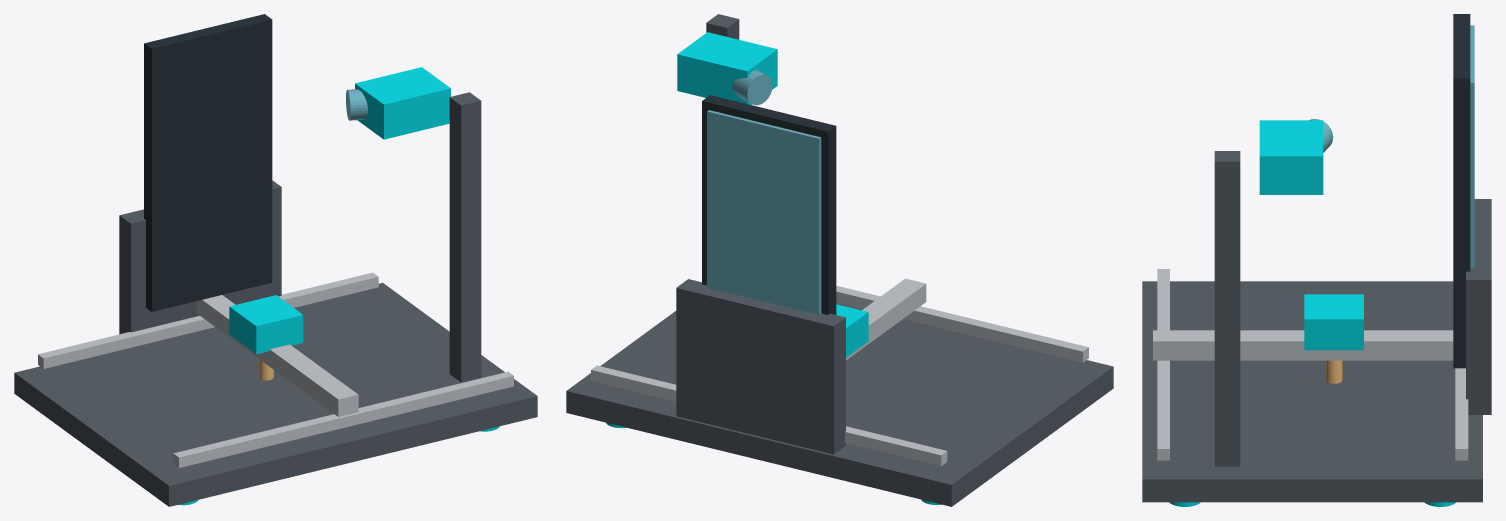
File: loop-phone-dock.glb
3 renders of one model, left to right at view 1: azimuth 30°, elevation 25°; view 2: azimuth 150°, elevation 25°; view 3: azimuth 270°, elevation 25°, orthographic. The views are drawn at different scales.
Visible parts, largest first — view 1: base, phone_body, mast, cradle, rail_y_s, head, rail_y_n, gantry, carriage, lens; view 2: base, cradle, phone_glass, phone_body, head, rail_y_s, rail_y_n, gantry, carriage, lens, mast; view 3: base, mast, gantry, phone_body, cradle, head, carriage, rail_y_s, phone_glass, rail_y_n, stylus.
Part boxes in pixels (<box>): base: <box>14,283,537,506</box>; phone_body: <box>144,14,272,311</box>; mast: <box>449,92,481,382</box>; cradle: <box>119,180,281,334</box>; rail_y_s: <box>173,371,513,467</box>; head: <box>355,67,450,139</box>; rail_y_n: <box>38,272,378,368</box>; gantry: <box>196,295,358,416</box>; carriage: <box>229,295,303,354</box>; lens: <box>346,89,367,120</box>; base: <box>566,302,1113,506</box>; cradle: <box>676,279,845,454</box>; phone_glass: <box>707,110,821,314</box>; phone_body: <box>702,95,836,314</box>; head: <box>677,32,777,104</box>; rail_y_s: <box>836,285,1088,362</box>; rail_y_n: <box>591,365,947,466</box>; gantry: <box>846,278,926,360</box>; carriage: <box>836,304,868,357</box>; lens: <box>732,70,772,105</box>; mast: <box>706,14,739,39</box>; base: <box>1142,281,1482,502</box>; mast: <box>1214,151,1240,466</box>; gantry: <box>1153,330,1453,360</box>; phone_body: <box>1453,14,1470,368</box>; cradle: <box>1466,199,1491,414</box>; head: <box>1259,120,1323,194</box>; carriage: <box>1304,294,1363,350</box>; rail_y_s: <box>1157,269,1169,460</box>; phone_glass: <box>1470,25,1474,267</box>; rail_y_n: <box>1455,368,1468,460</box>; stylus: <box>1325,360,1342,383</box>.
Size of what is drawn, in the model's own units: 0.22 by 0.193 by 0.164.
